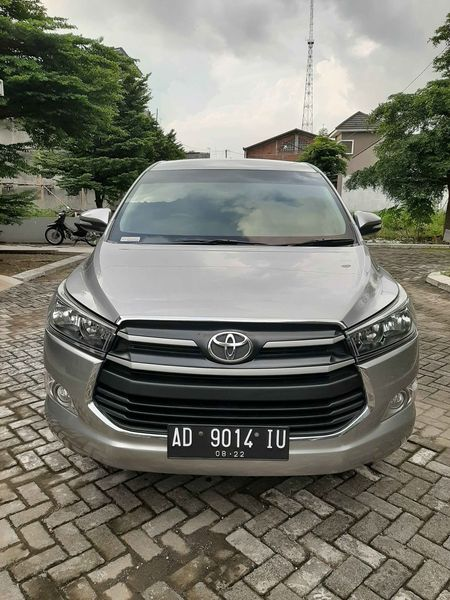plate: (166, 423, 290, 465)
